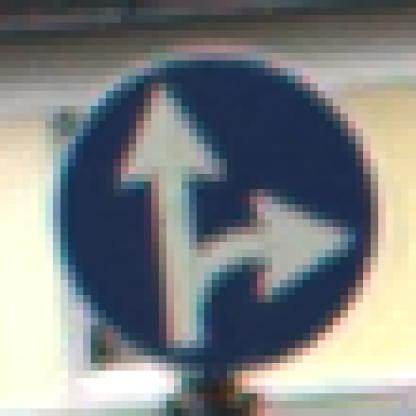Straight or Right: (47, 47, 380, 380)
